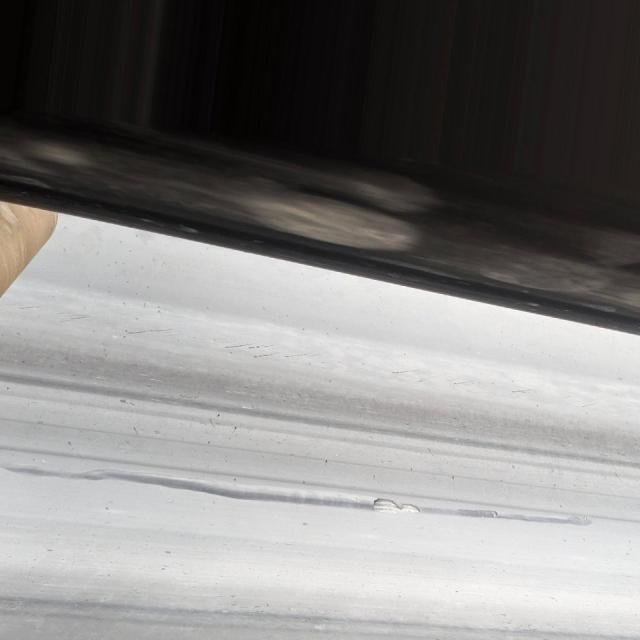Impact Damage: (372, 494, 426, 520)
